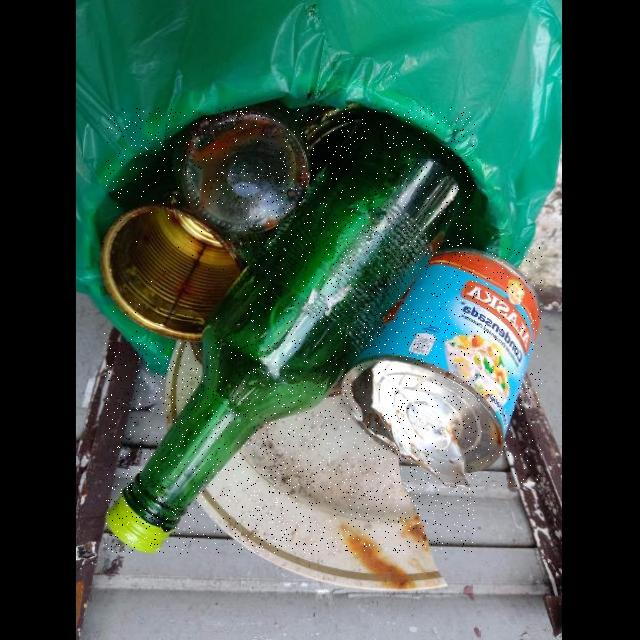glass: (105, 107, 475, 553)
metal: (339, 247, 542, 488), (100, 205, 245, 342)
